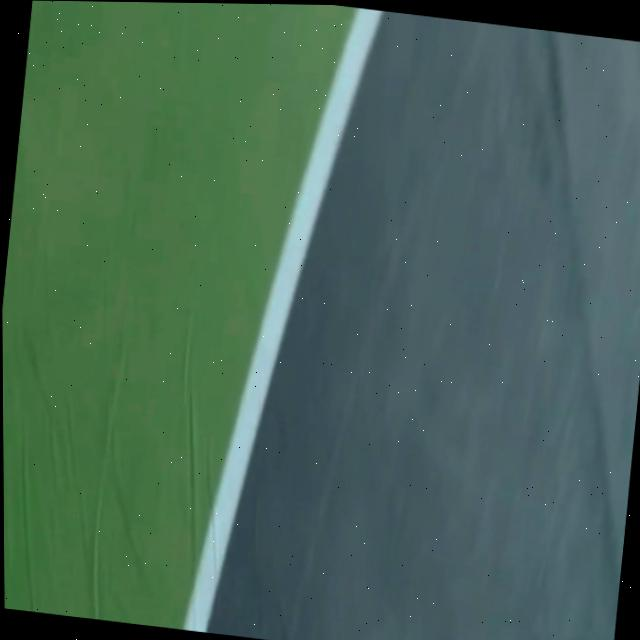right: (184, 7, 384, 632)
